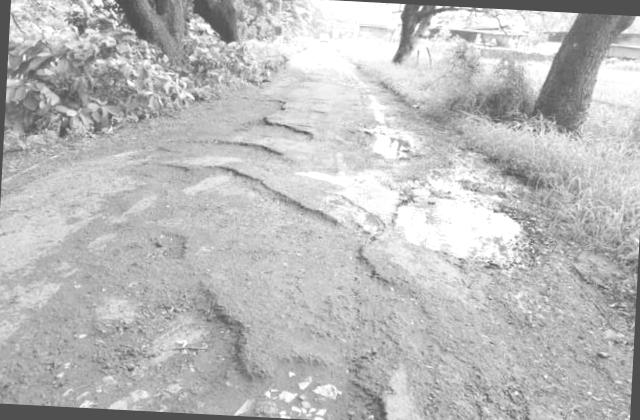Pothole: (66, 275, 416, 420), (384, 181, 557, 296), (160, 162, 347, 243), (229, 90, 324, 163), (348, 121, 442, 175), (203, 132, 297, 179)
